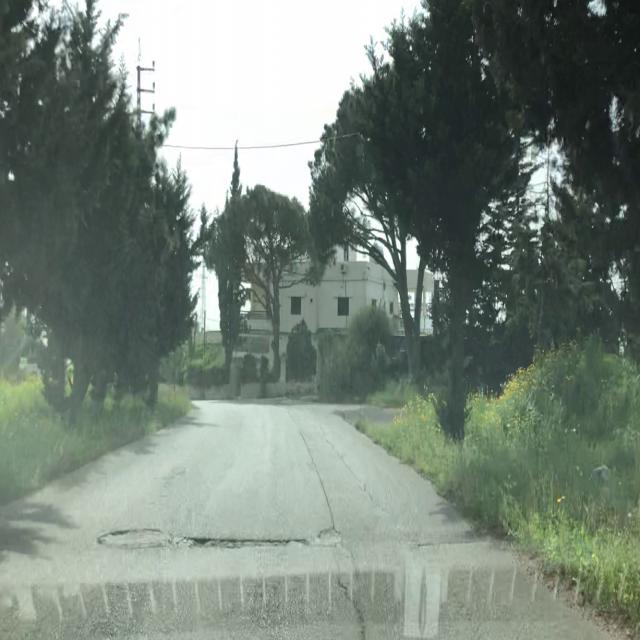Pothole: (177, 534, 306, 552), (316, 524, 342, 546)
